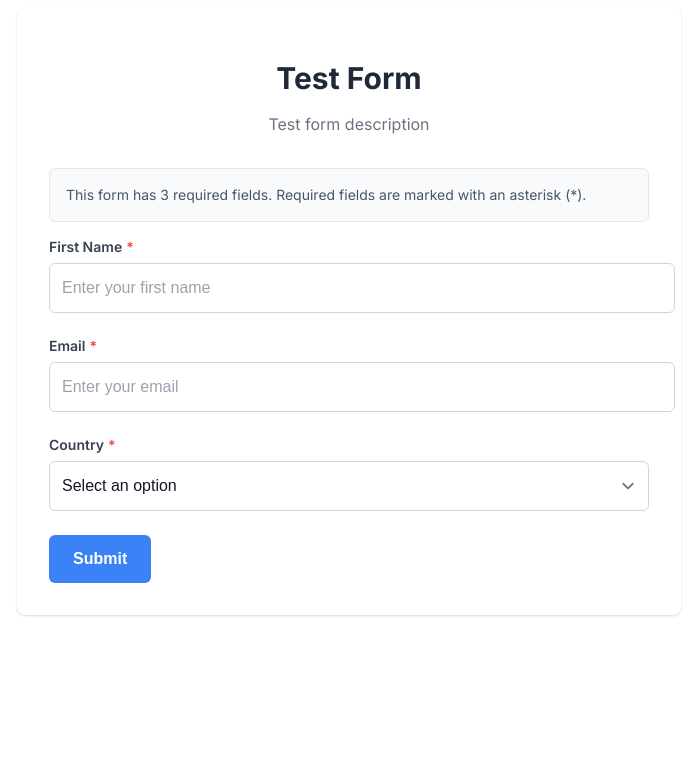
Test: Form Component › resets form after successful submission
Type "John" into the field labelled "First Name*" at (362, 288), box x1=49 y1=263 x2=675 y2=313
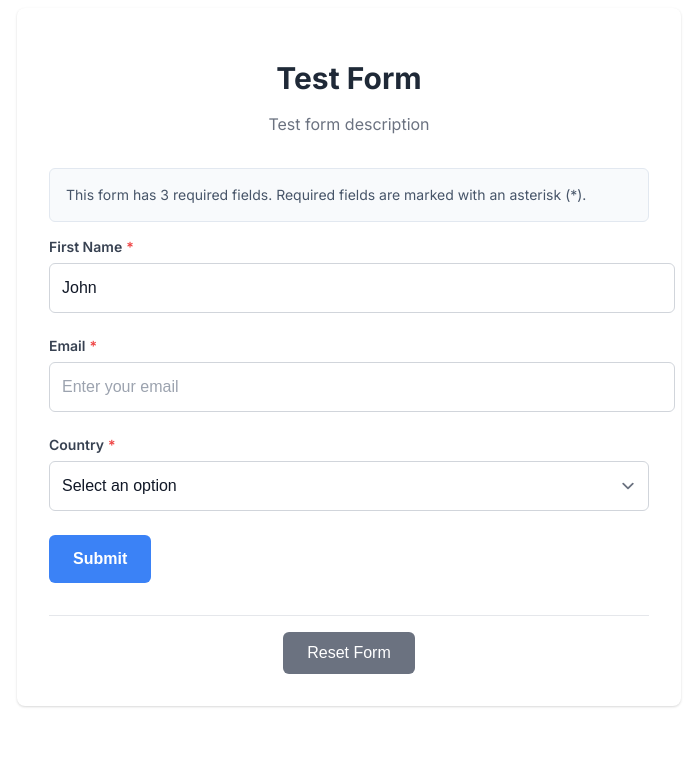
Type "john@example.com" into the field labelled "Email*" at (362, 387), box x1=49 y1=362 x2=675 y2=412
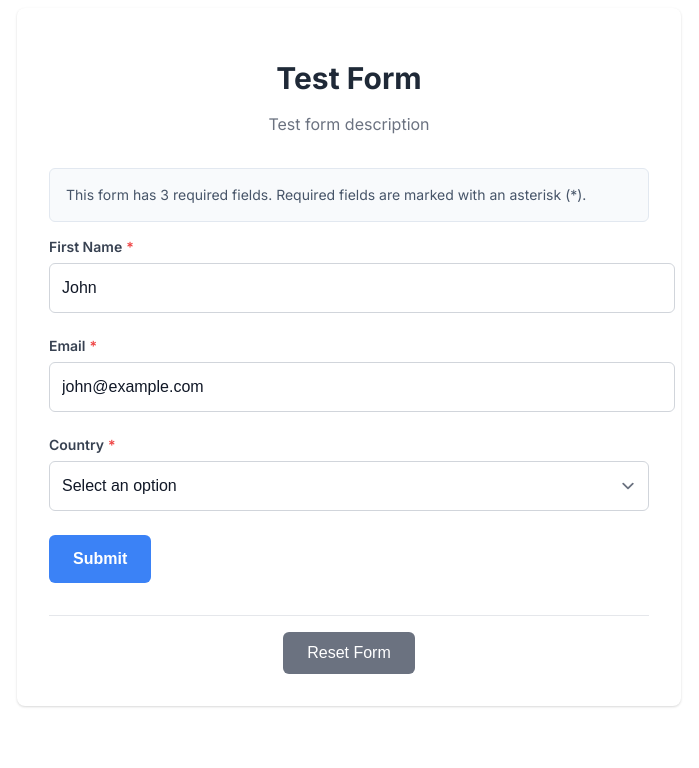
Select "United States" in the dropdown labelled "Country*" at (349, 486), box x1=49 y1=461 x2=649 y2=511
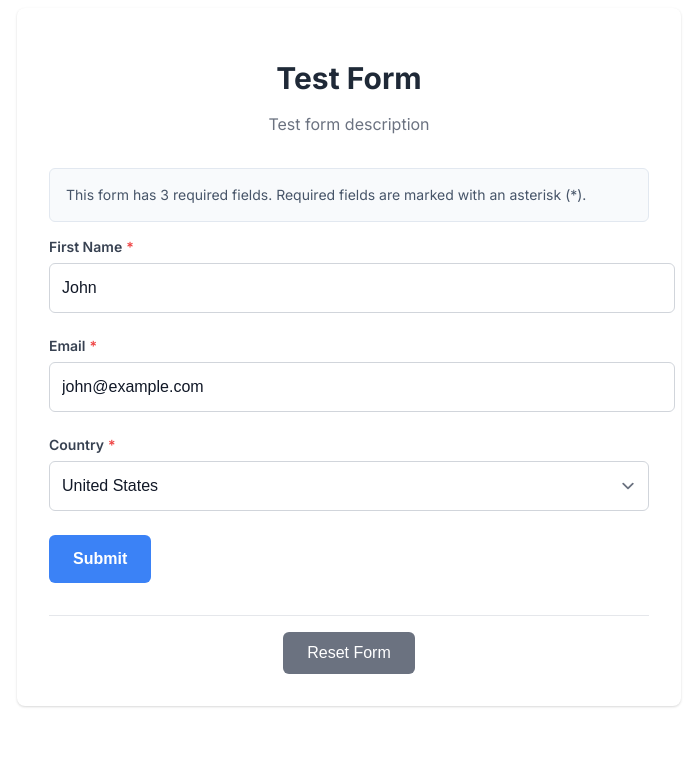
// Submit form
Click the button "Submit" at (100, 559), box x1=49 y1=535 x2=151 y2=583
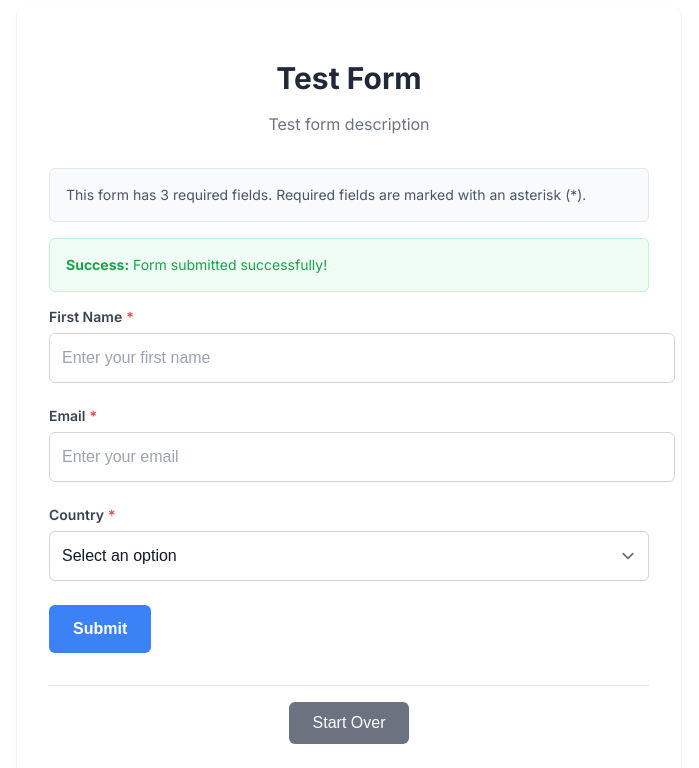
Expected: the message "Success: Form submitted successfully!" is shown, x1=49 y1=238 x2=649 y2=292
